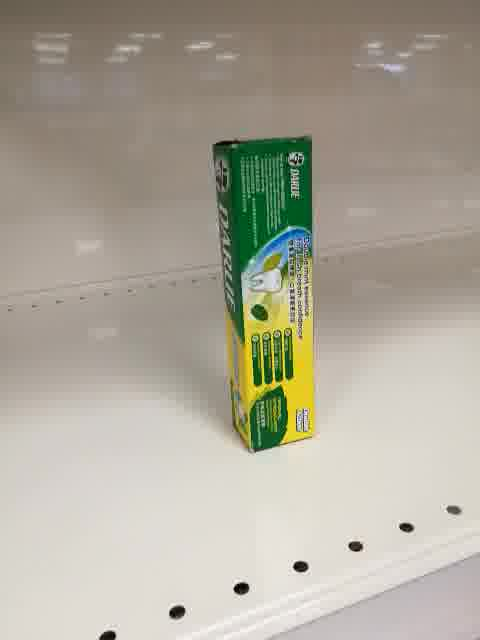toothpaste: (210, 137, 316, 454)
